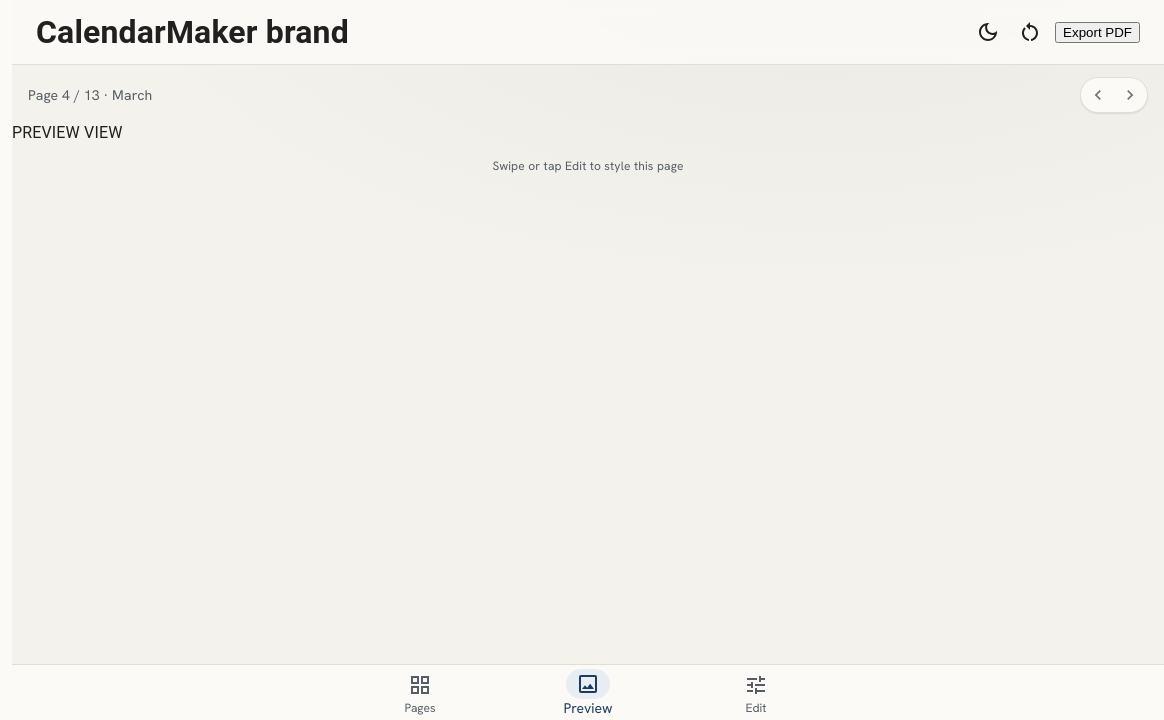
Test: MobileEditor › switches to the Edit and Pages views when their tabs are clicked
Click the tab "Edit" at {"x": 756, "y": 692}, box x1=672 y1=665 x2=840 y2=719
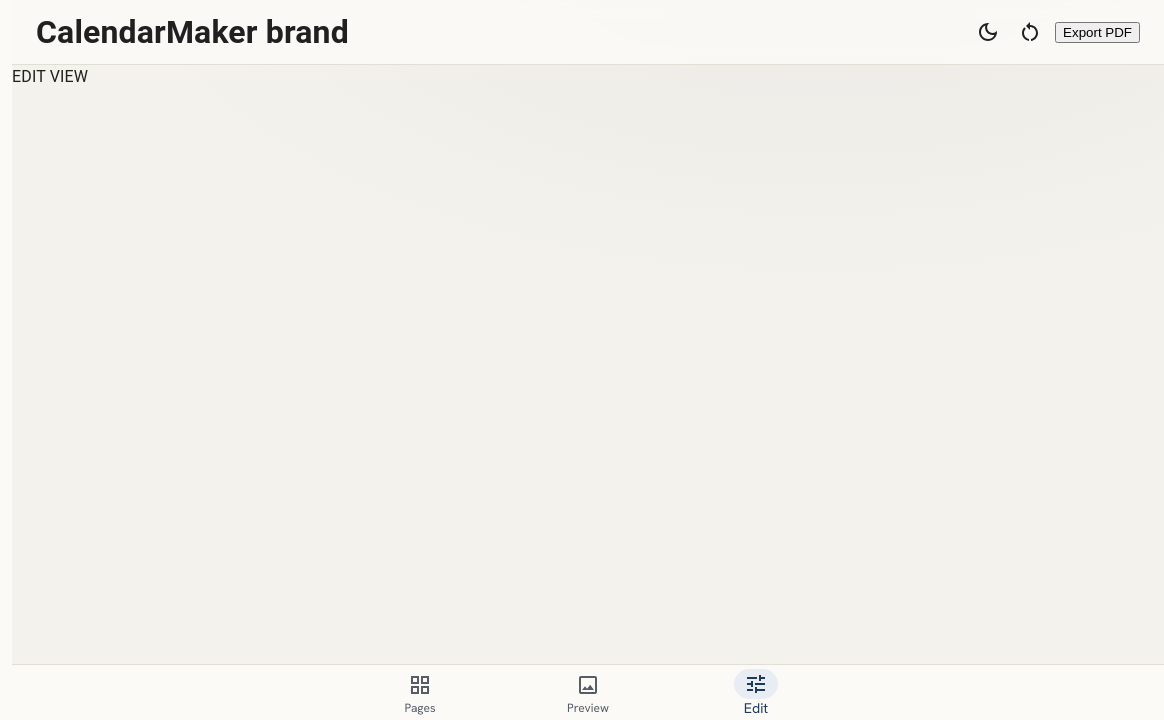
Expected: the text "EDIT VIEW" is shown, x1=12 y1=67 x2=88 y2=86
Expected: the text "PREVIEW VIEW" is gone
Click the tab "Pages" at {"x": 420, "y": 692}, box x1=336 y1=665 x2=504 y2=719
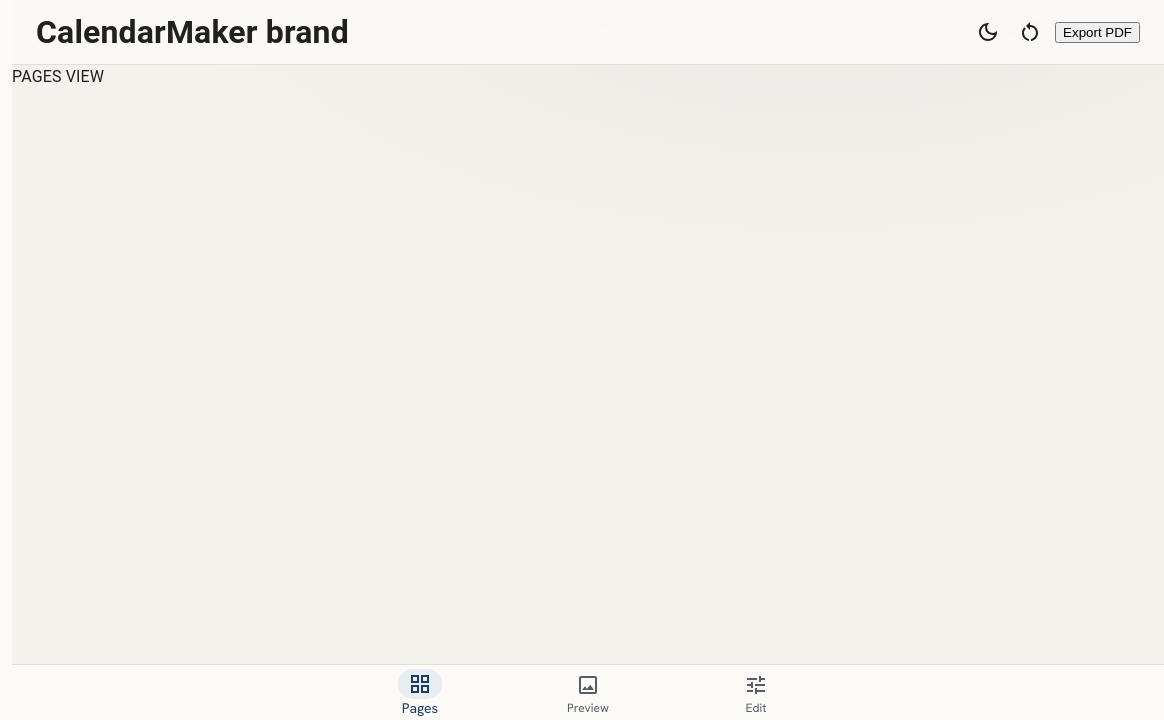
Expected: the text "PAGES VIEW" is shown, x1=12 y1=67 x2=104 y2=86
Expected: the text "EDIT VIEW" is gone
